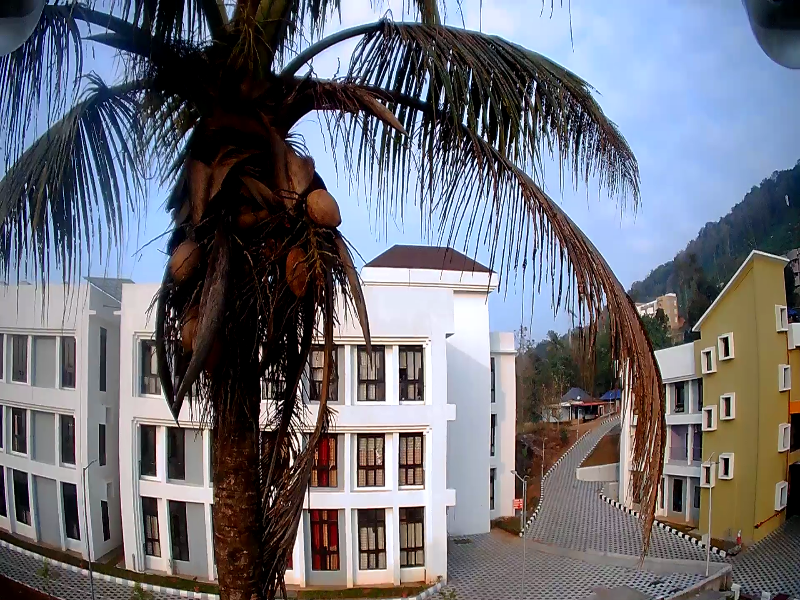coconut: (162, 232, 204, 290), (301, 183, 332, 231), (285, 247, 313, 294), (180, 315, 205, 354)
